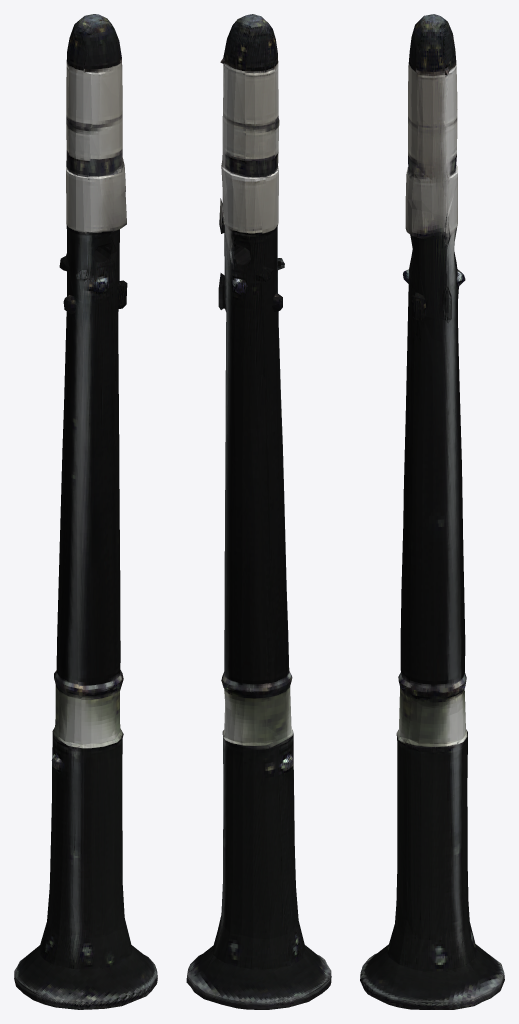
The model's file is siyah_duba15.glb.
3 views of the same model, side by side, from view 1: azimuth 30°, elevation 25°; view 2: azimuth 150°, elevation 25°; view 3: azimuth 270°, elevation 25° (orthographic).
Parts seen in each view (by area): view 1: world; view 2: world; view 3: world.
Part boxes in pixels (x1,y1,x2,y2): world: (14,14,157,1009); world: (186,14,331,1009); world: (360,14,504,1009).
Bounding box in the file's own units: 0.1351 × 1 × 0.1356.
Materials: 1 (1 with a texture image).
